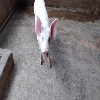heo: (32, 1, 58, 70)
